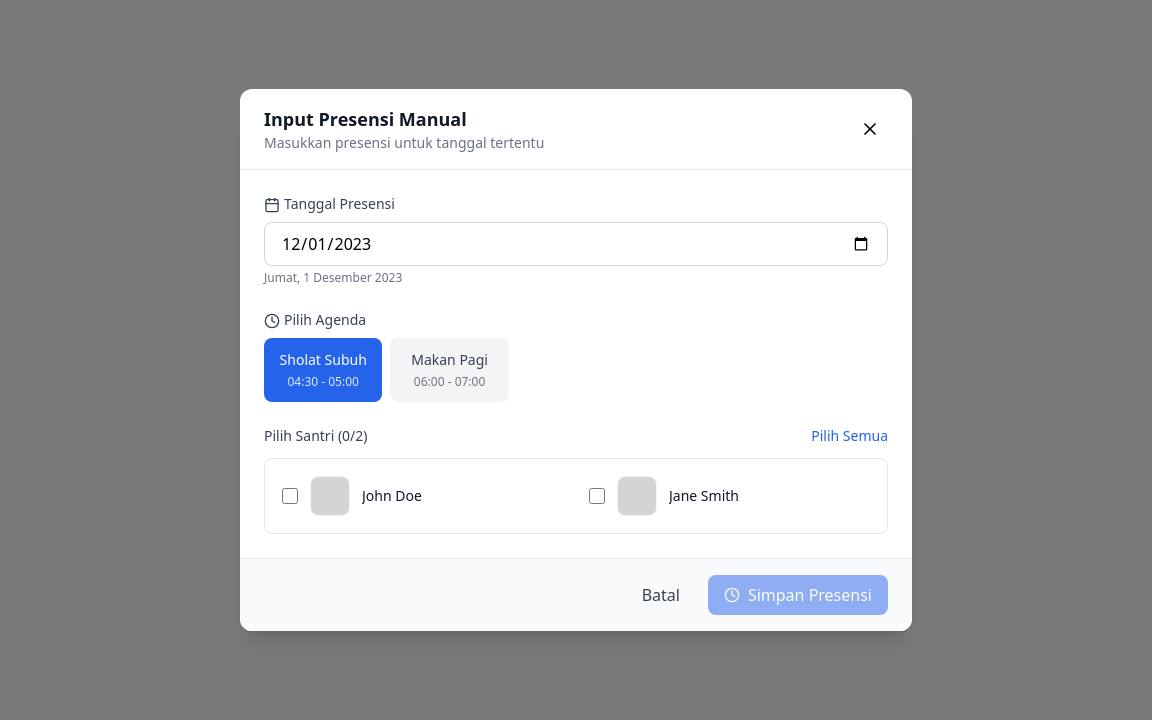
it: PresensiInputModal Component › allows selecting all santri
Expected: the text "John Doe" is shown, [362, 486, 422, 506]
# Click 'Pilih Semua'
Click the button "Pilih Semua": (850, 436) [811, 426, 888, 446]
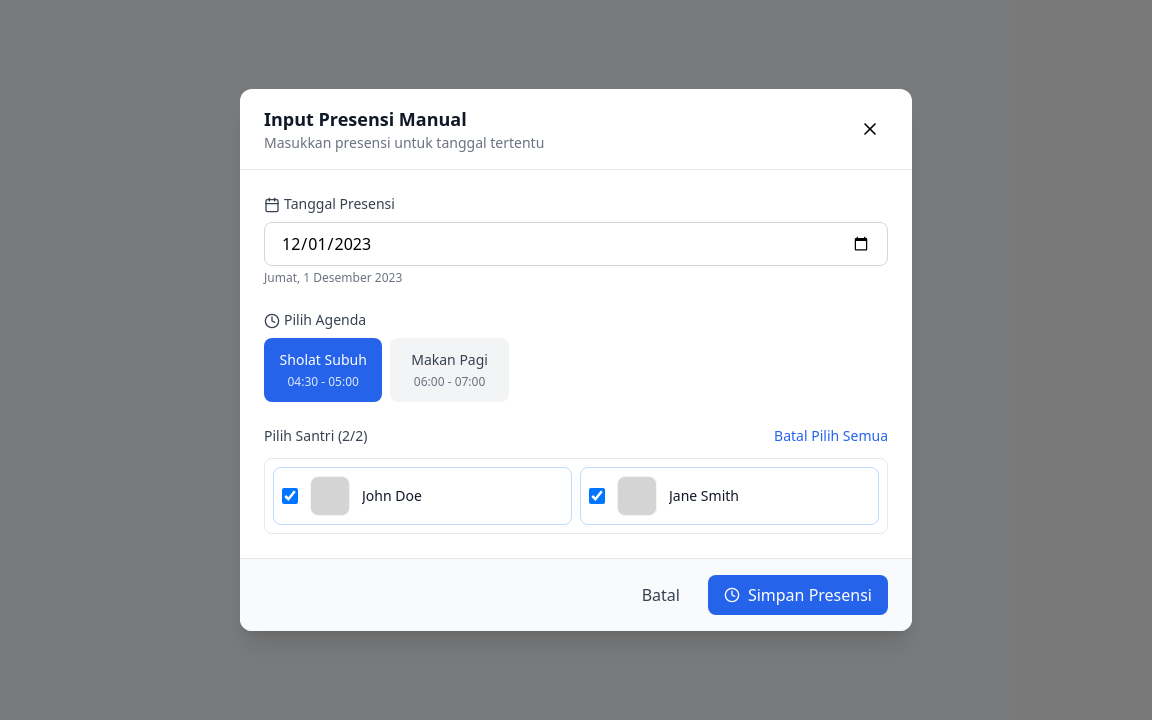
Expected: the checkbox labelled "John Doe" is checked, [282, 488, 298, 504]
Expected: the checkbox labelled "Jane Smith" is checked, [589, 488, 605, 504]
# Click 'Batal Pilih Semua'
Click the button "Batal Pilih Semua": (831, 436) [774, 426, 888, 446]
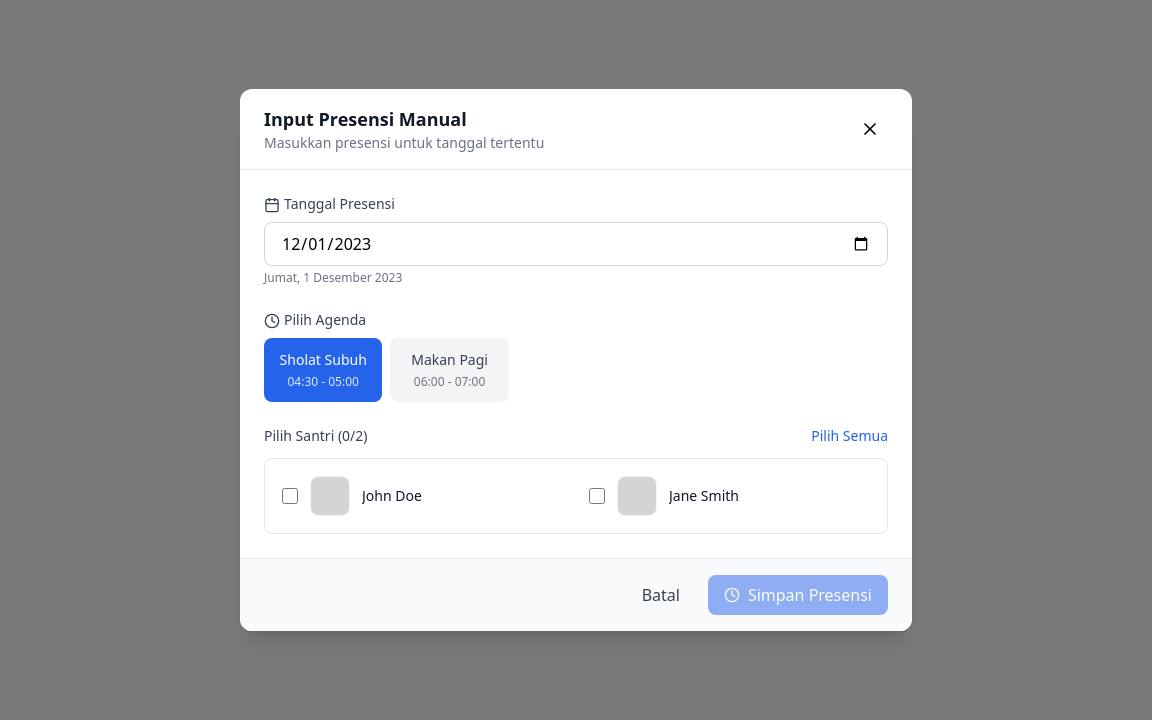
Expected: the checkbox labelled "John Doe" is not checked, [282, 488, 298, 504]
Expected: the checkbox labelled "Jane Smith" is not checked, [589, 488, 605, 504]
